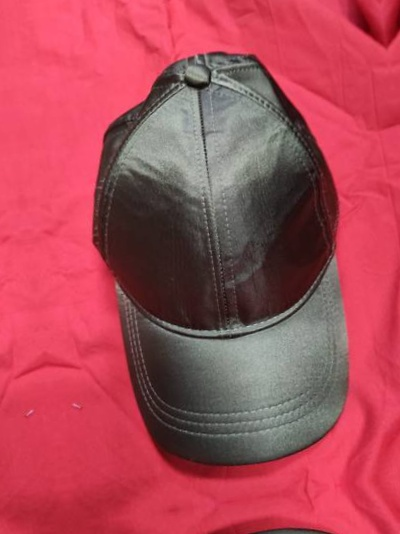Hat: (44, 20, 398, 495), (0, 76, 24, 534), (116, 501, 400, 534)
